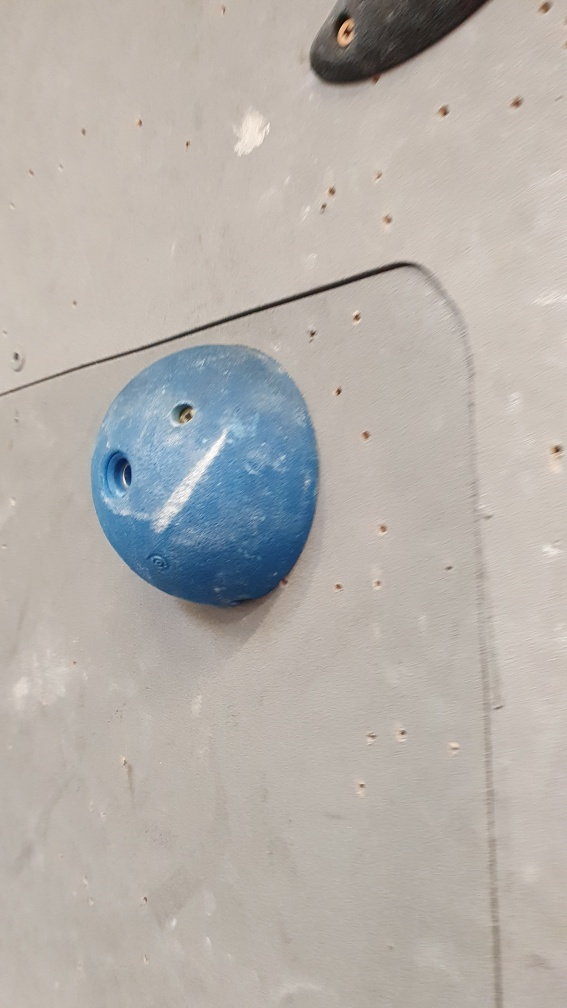Sloper: (87, 339, 322, 612)
